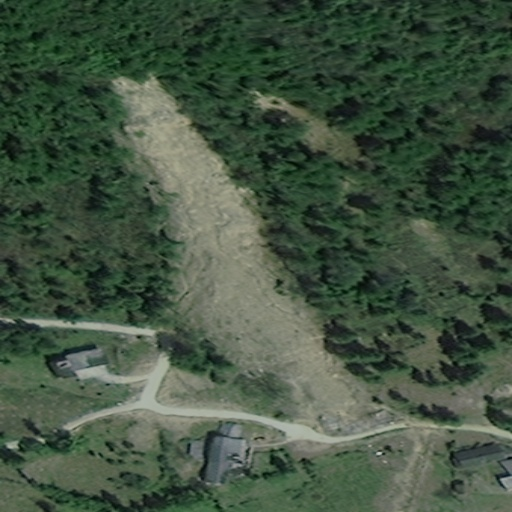landslide: (107, 73, 368, 431)
